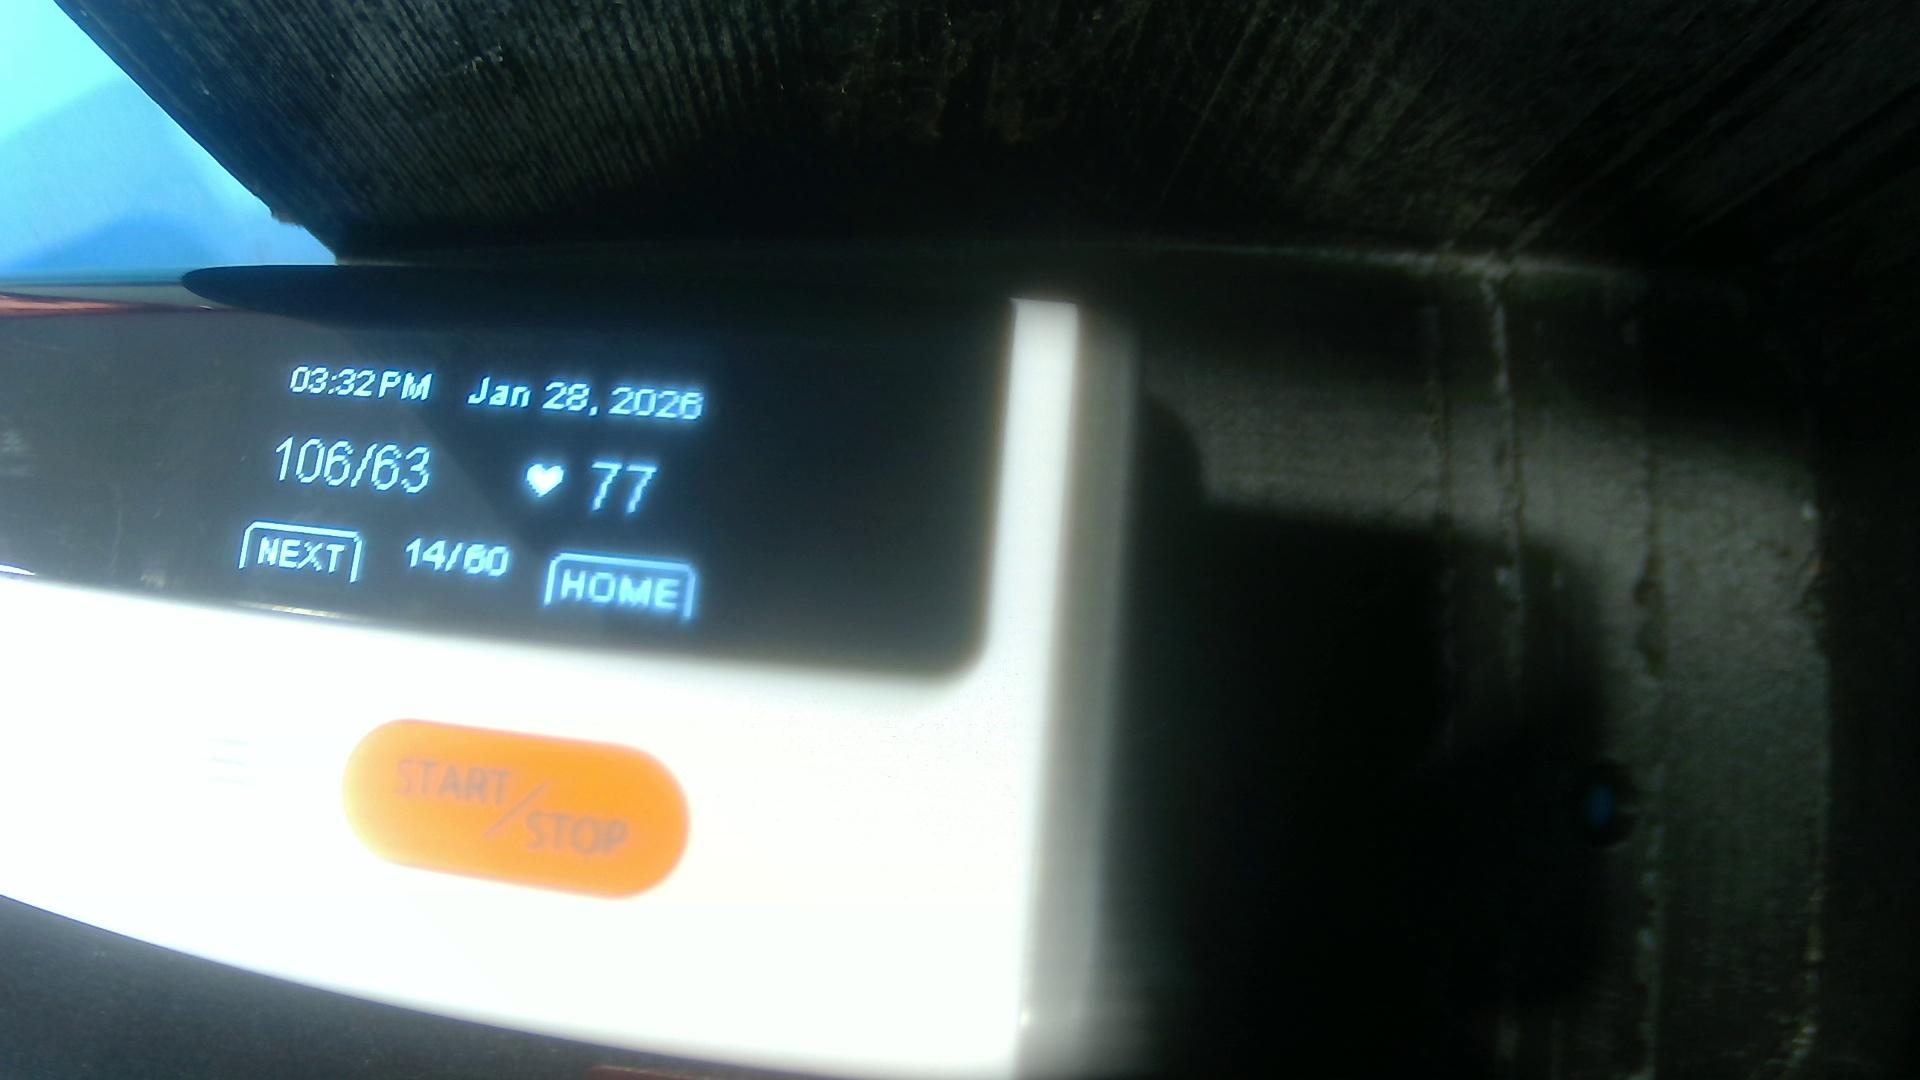DISPLAY: (14, 277, 986, 656)
